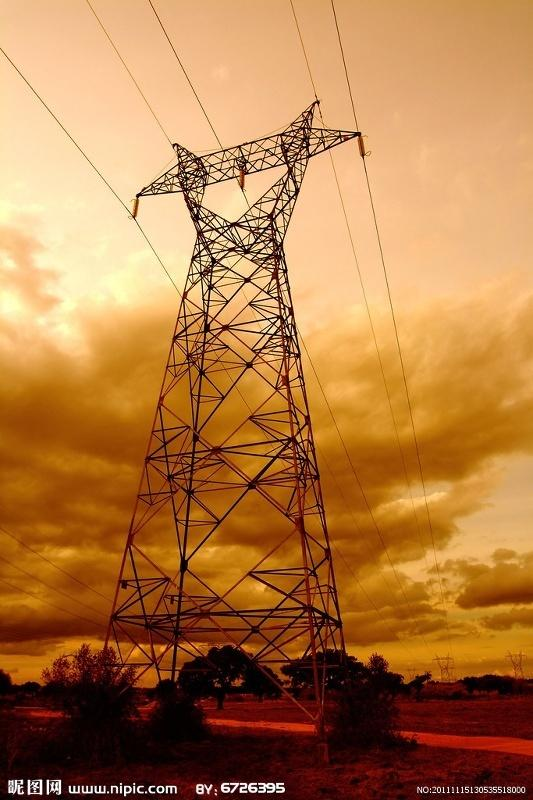power_tower: (104, 116, 390, 651)
